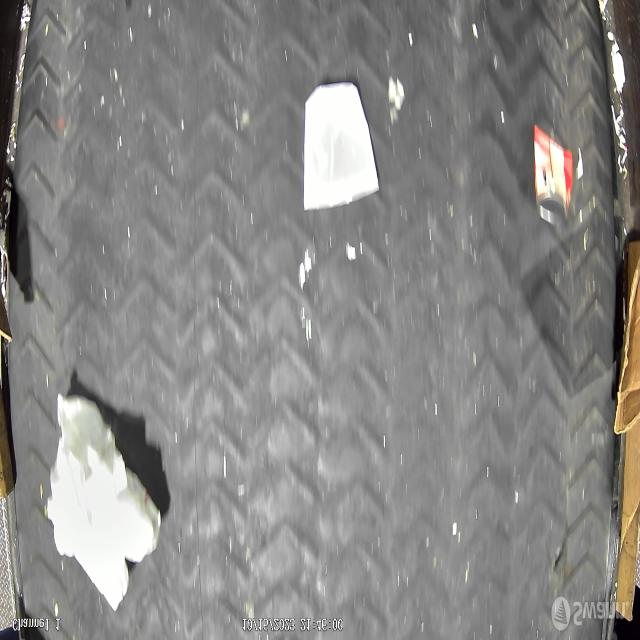can: (533, 122, 574, 228)
